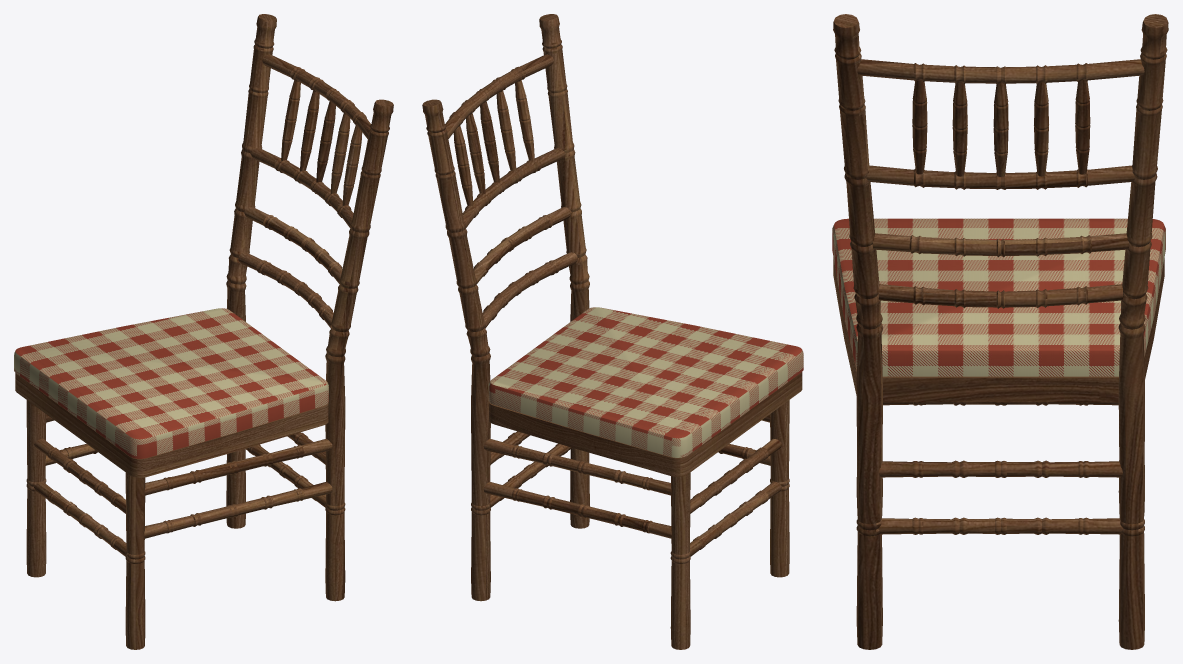
File: chair2.fbx
The picture shows the model from 3 angles, left to right: view 1: azimuth 30°, elevation 25°; view 2: azimuth 150°, elevation 25°; view 3: azimuth 270°, elevation 25°; orthographic projection. The views are drawn at different scales.
Visible parts, largest first — view 1: seat.008; view 2: seat.008; view 3: seat.008.
Boxes of the visible parts, bbox=[...] form: seat.008: bbox=[14, 14, 393, 649]; seat.008: bbox=[422, 14, 803, 649]; seat.008: bbox=[832, 14, 1168, 649].
Bounding box in the file's own units: 57.54 × 101 × 47.38.
Materials: 2 (2 with a texture image).
